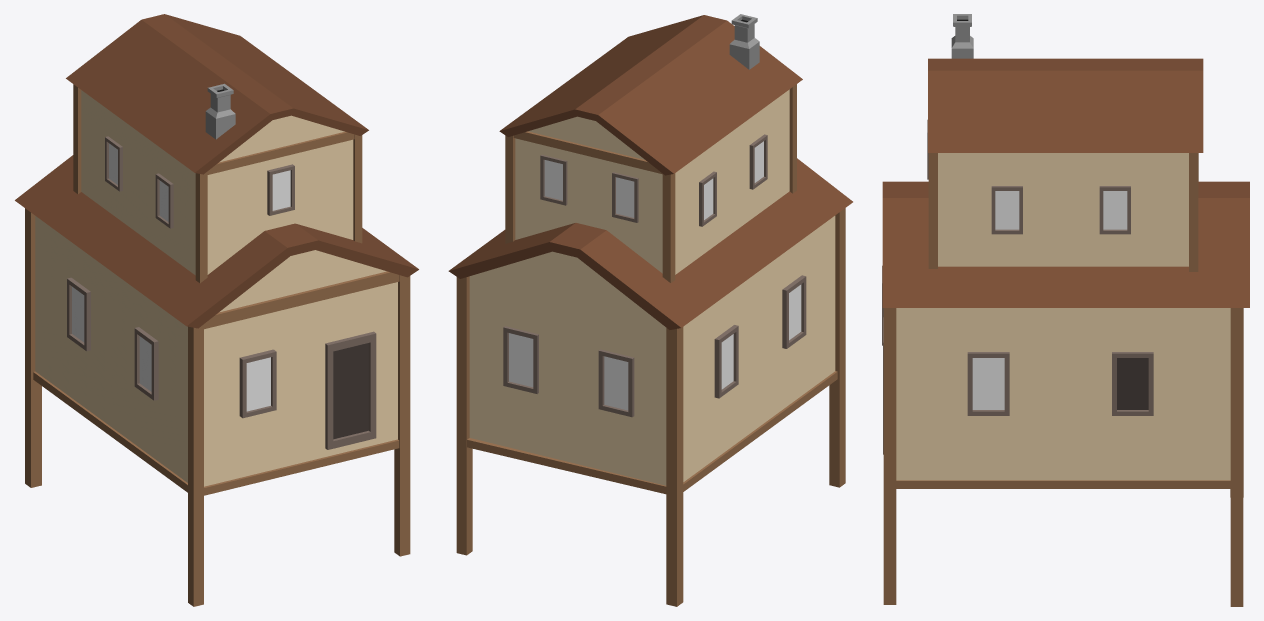
Rendered from M_House_Building_3.fbx.
The picture shows the model from 3 angles, left to right: view 1: azimuth 30°, elevation 25°; view 2: azimuth 150°, elevation 25°; view 3: azimuth 270°, elevation 25°; orthographic projection. The views are drawn at different scales.
Parts seen in each view (by area): view 1: M_House_Building_3; view 2: M_House_Building_3; view 3: M_House_Building_3.
Part boxes in pixels (<box>): M_House_Building_3: <box>15,14,418,606</box>; M_House_Building_3: <box>448,14,852,606</box>; M_House_Building_3: <box>882,14,1249,606</box>.
Size of the model in its own units: 446 by 870 by 572.
